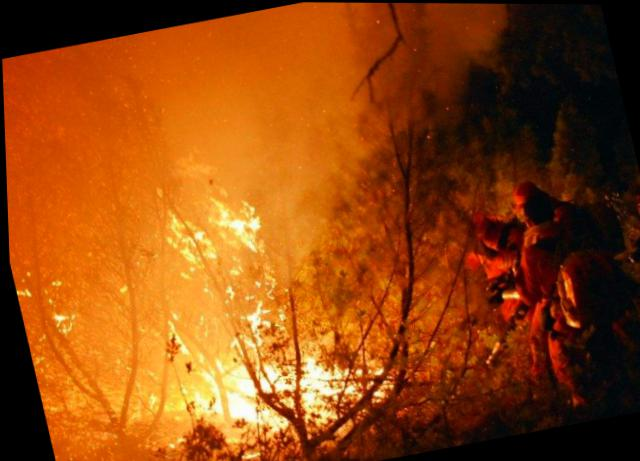fire: (129, 163, 393, 451)
